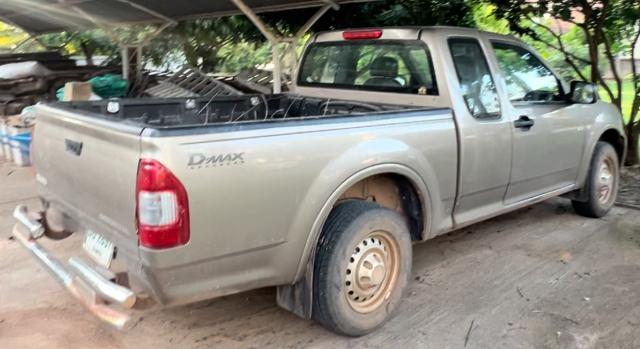pickup-truck: (12, 24, 628, 339)
